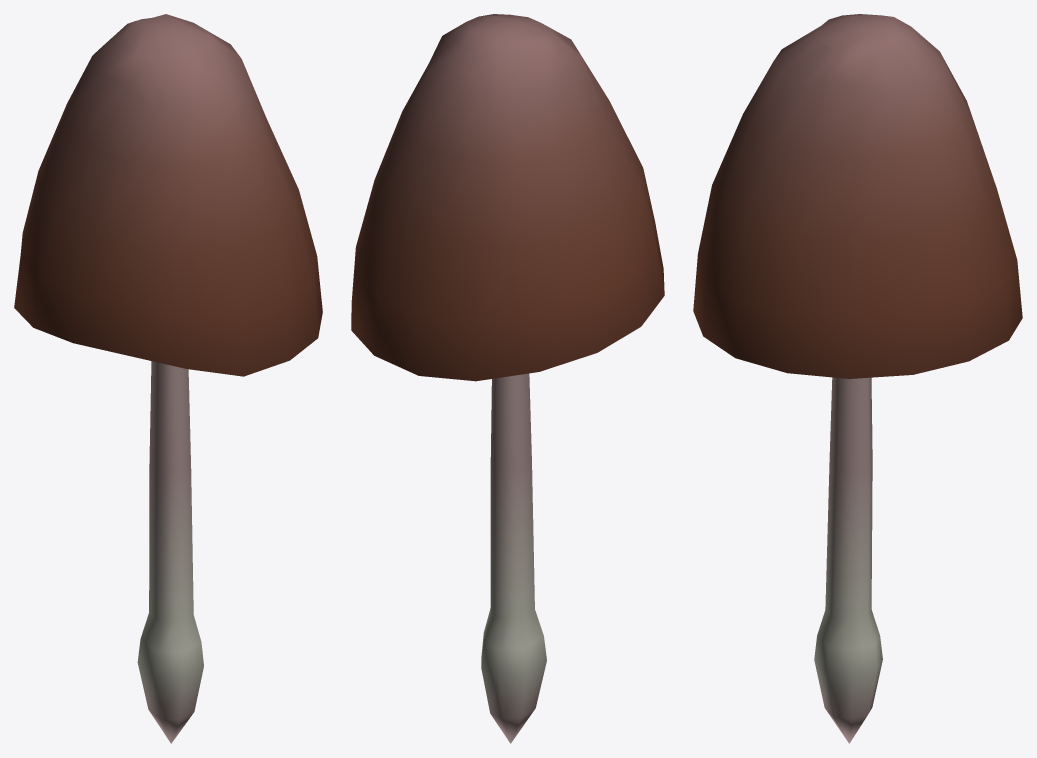
File: plants-mushrooms-cone-mushroom_v2.glb
3 views of the same model, side by side, from view 1: azimuth 30°, elevation 25°; view 2: azimuth 150°, elevation 25°; view 3: azimuth 270°, elevation 25° (orthographic). The views are drawn at different scales.
Parts seen in each view (by area): view 1: Cone Mushroom_v2; view 2: Cone Mushroom_v2; view 3: Cone Mushroom_v2.
Boxes of the visible parts, bbox=[...] form: Cone Mushroom_v2: bbox=[14, 14, 322, 743]; Cone Mushroom_v2: bbox=[351, 14, 664, 743]; Cone Mushroom_v2: bbox=[693, 14, 1022, 743].
Bounding box in the file's own units: 0.0469 × 0.12 × 0.0496.
